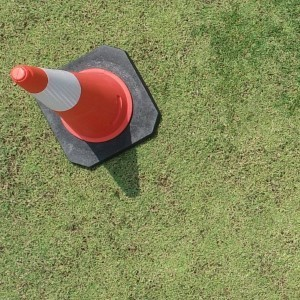traffic cone: (11, 44, 159, 168)
